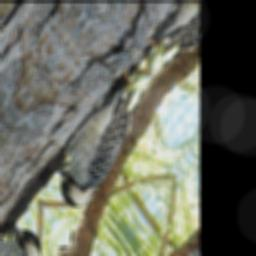Woodpecker: (44, 70, 156, 218)
